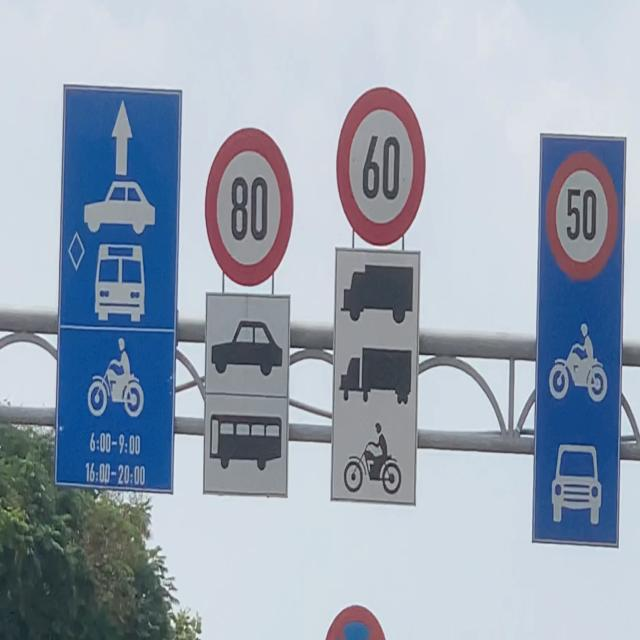Toc do toi da: (204, 126, 294, 288), (336, 86, 426, 246), (545, 150, 619, 281)
